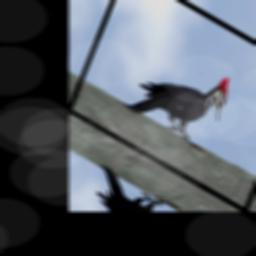Woodpecker: (122, 33, 236, 157)
